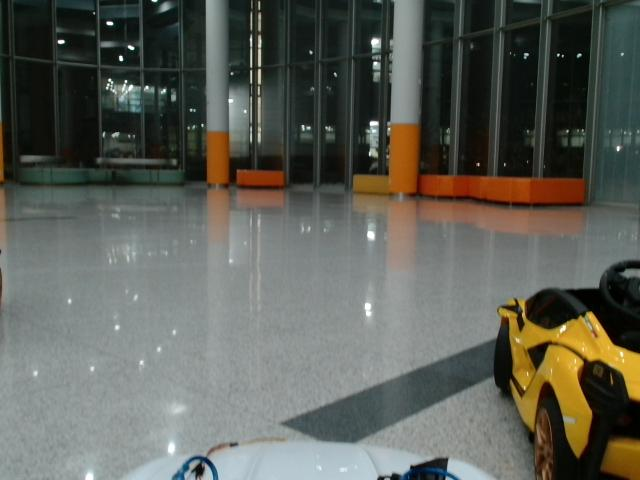car: (494, 260, 640, 480)
